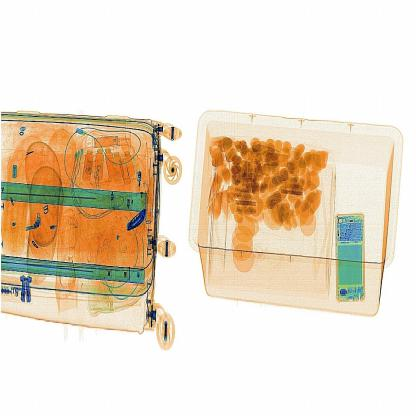knife: (121, 202, 162, 240)
